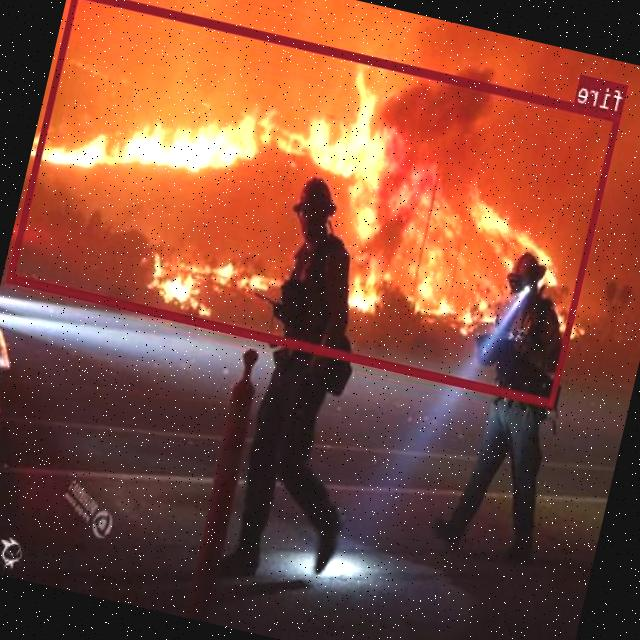fire: (7, 0, 621, 405)
